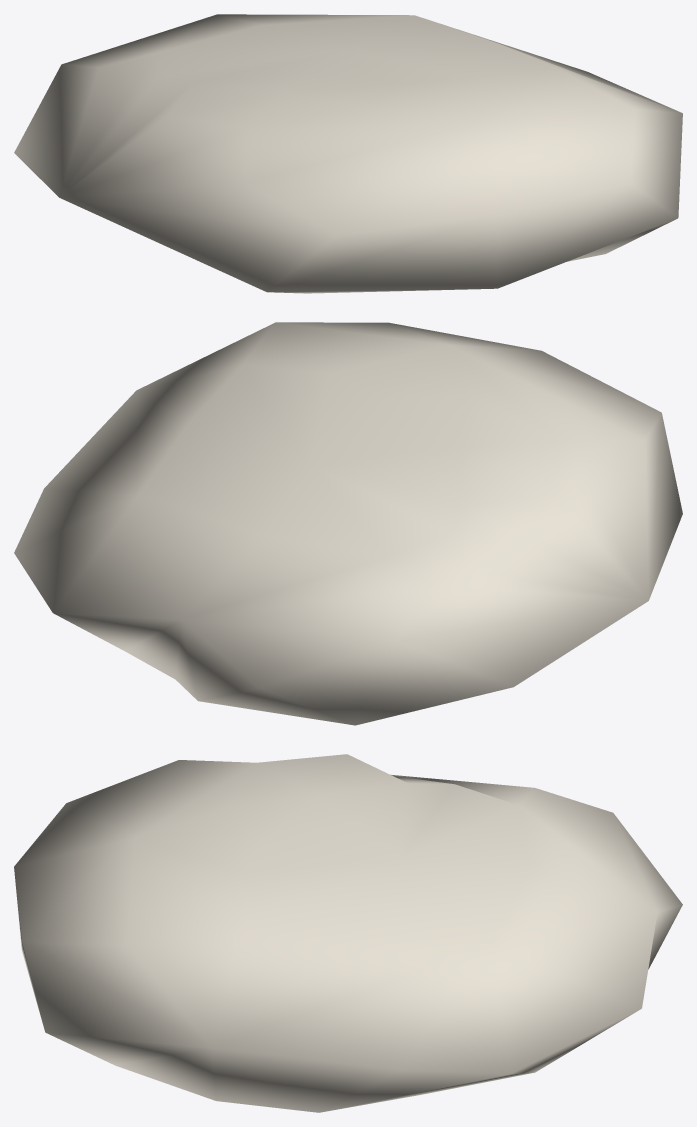
File: Iceberg.fbx
3 views of the same model, one above another, from view 1: azimuth 30°, elevation 25°; view 2: azimuth 150°, elevation 25°; view 3: azimuth 270°, elevation 25° (orthographic). The views are drawn at different scales.
Visible parts, largest first — view 1: Iceberg; view 2: Iceberg; view 3: Iceberg.
Boxes of the visible parts, left/top/right/bottom form: Iceberg: left=14, top=14, right=682, bottom=293; Iceberg: left=14, top=322, right=682, bottom=725; Iceberg: left=14, top=754, right=682, bottom=1112.
Size of the model in its own units: 3.29 by 3.31 by 1.
